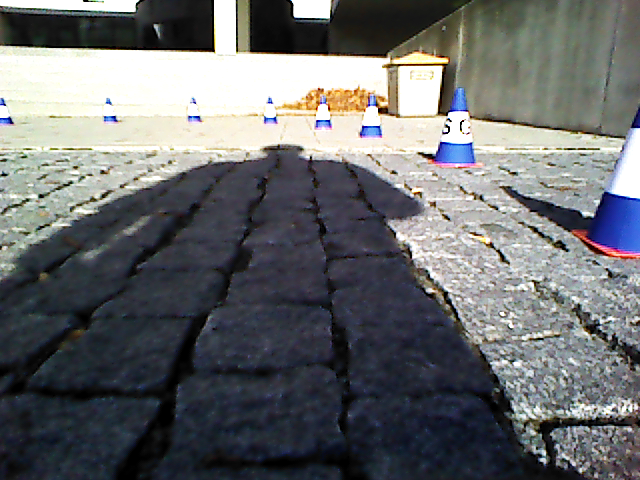bluecone: (590, 91, 640, 251), (435, 89, 475, 163), (361, 95, 382, 137), (315, 96, 332, 128), (103, 98, 118, 122), (263, 97, 276, 123), (187, 98, 201, 121), (1, 99, 12, 122)
